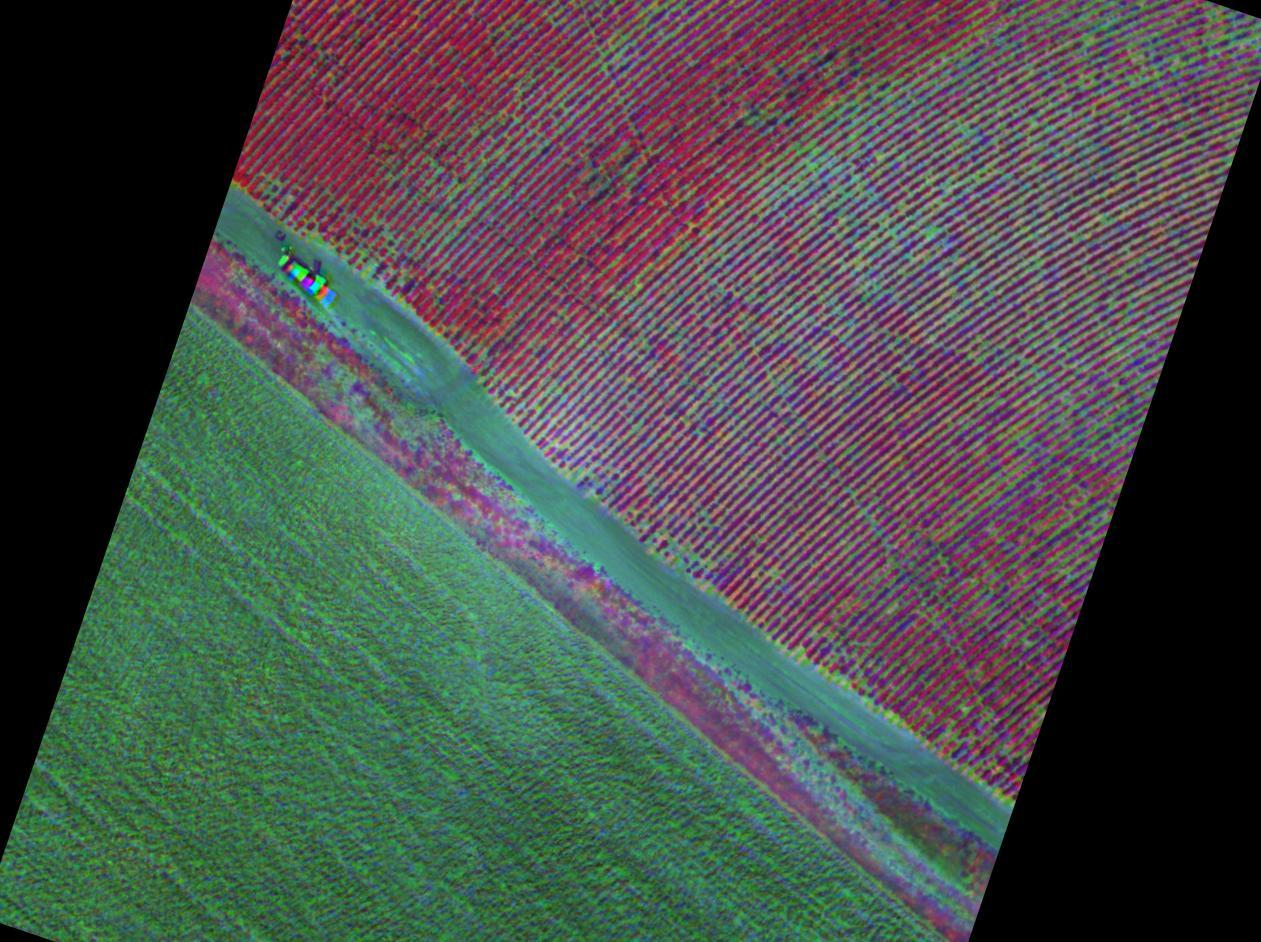dc: (816, 358, 820, 362), (1072, 404, 1076, 408), (638, 285, 641, 289), (459, 186, 462, 189), (452, 232, 455, 235), (977, 359, 980, 362), (579, 470, 582, 473), (755, 349, 757, 352)
